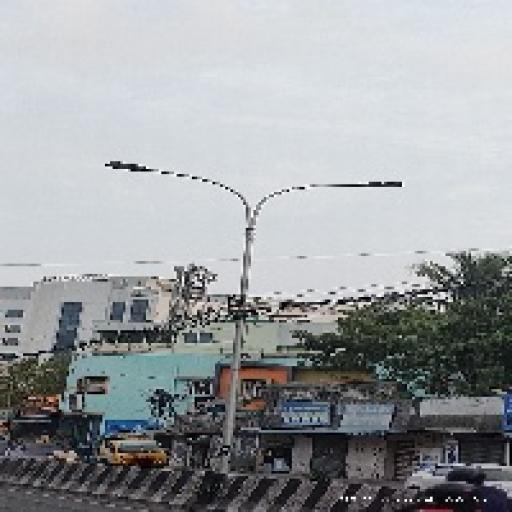Not Working: (94, 154, 157, 180), (358, 176, 411, 196)
